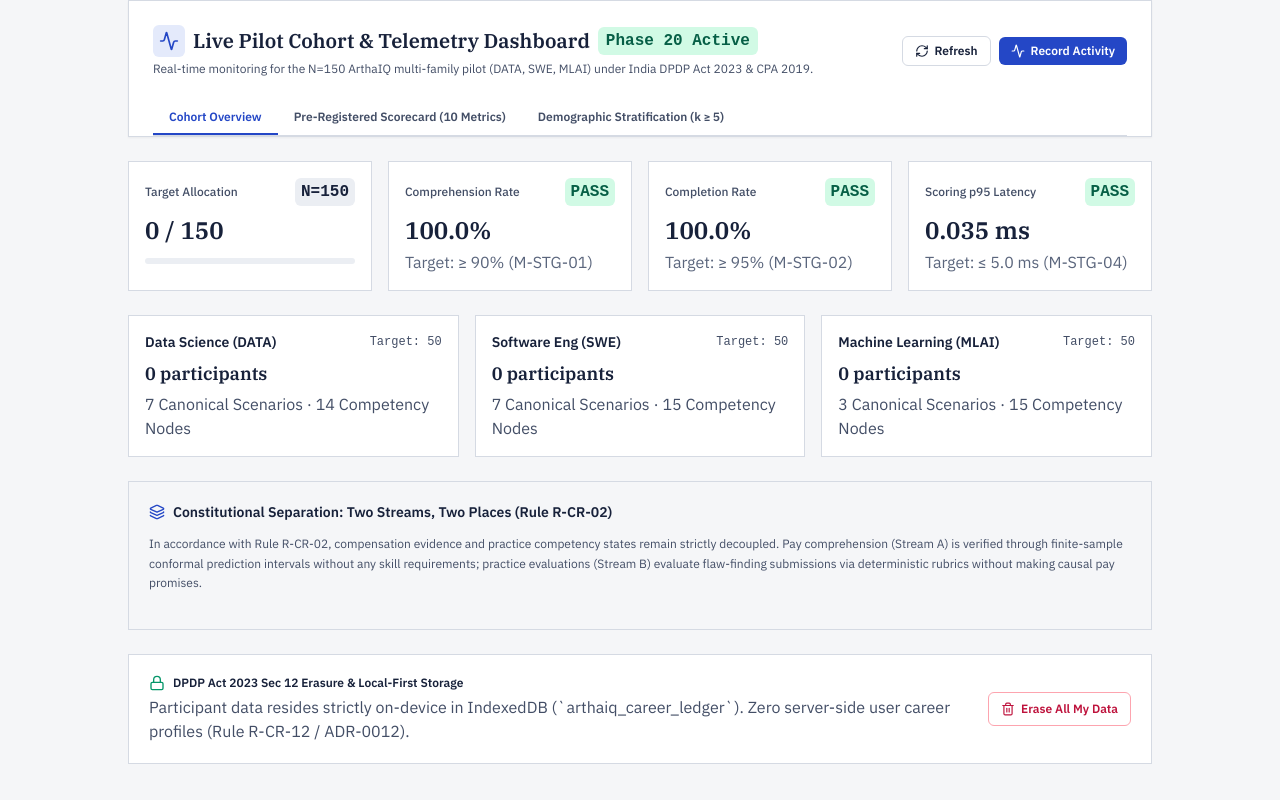
Test case: PilotRoute & PilotDashboard (T20.03) › switches to the Pre-Registered Scorecard tab and displays Stream A and Stream B panels
Click the tab "Pre-Registered Scorecard (10 Metrics)".
click(400, 118)  # box [278, 101, 522, 135]
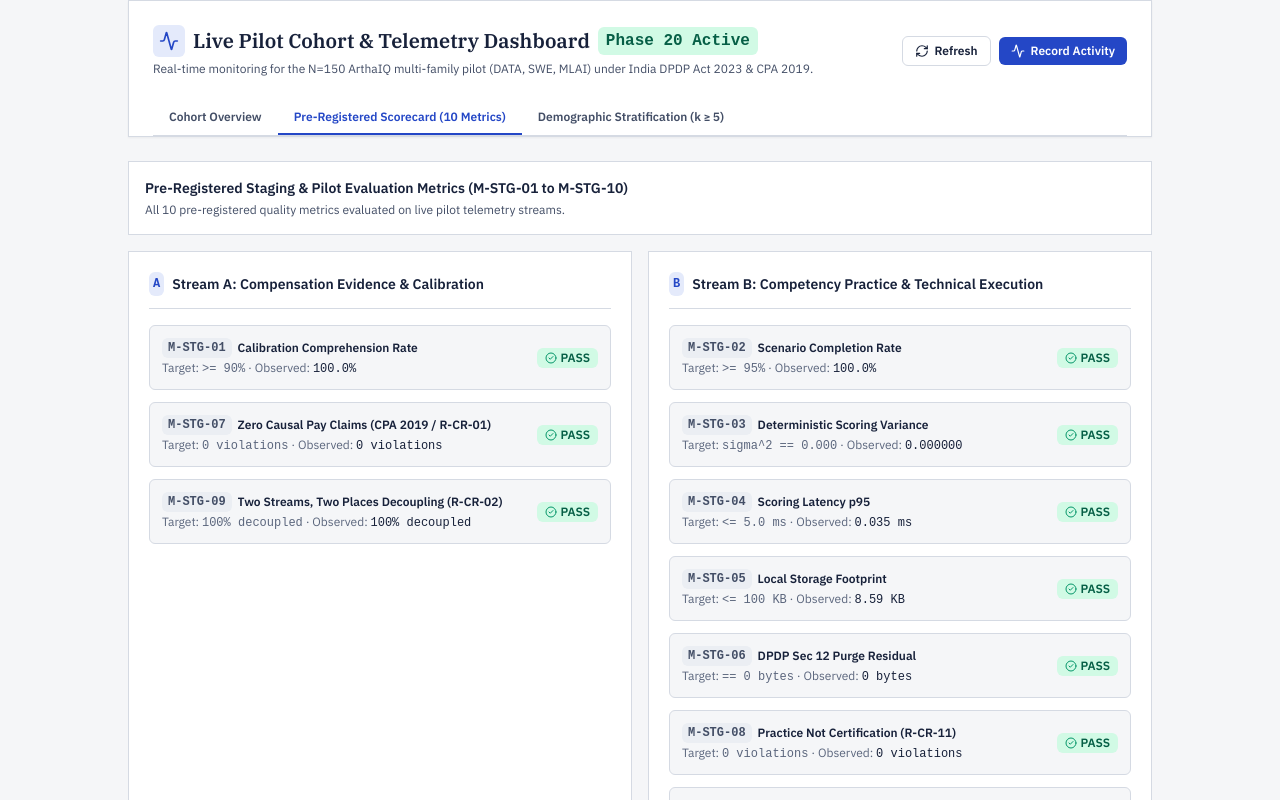
Expected: the heading "Stream A: Compensation Evidence & Calibration" is shown, [172, 274, 484, 294]
Expected: the text "M-STG-07" is shown, [162, 415, 232, 435]
Expected: the text "M-STG-09" is shown, [162, 492, 232, 512]
